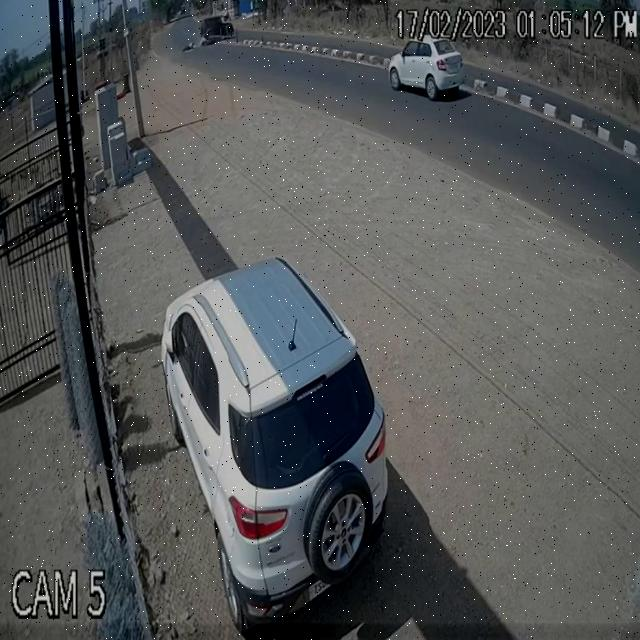accident: (178, 13, 237, 60)
